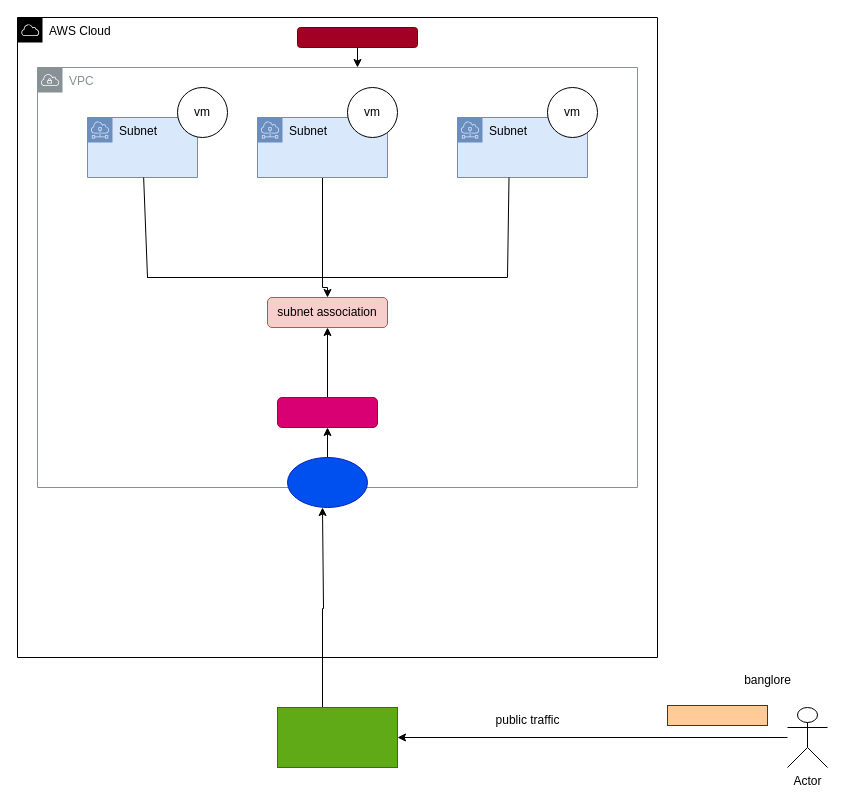
The diagram is 845 pixels wide and 806 high, and some of its shapes have lost their labels. Here are the shapes that lost their labels. From the top down, the centre of each, then its label:
the point at 357,37: mumbai region
the point at 327,412: route table
the point at 327,482: igw
the point at 717,715: private network
the point at 337,737: router
